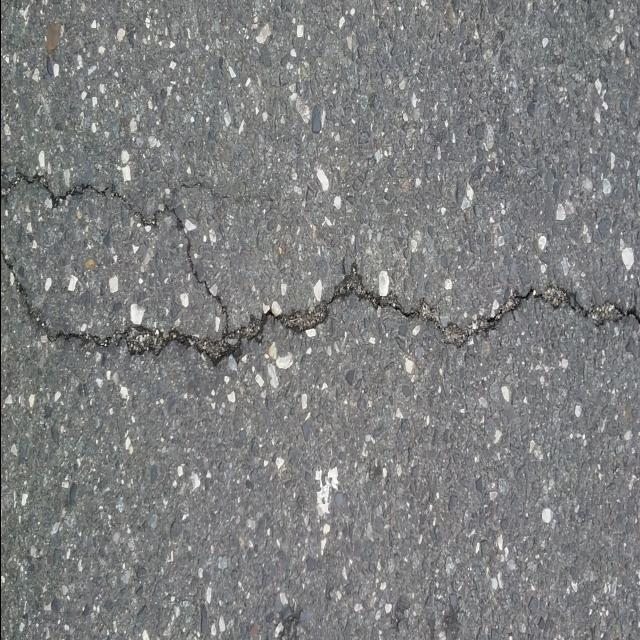Crack: (0, 169, 640, 368)
